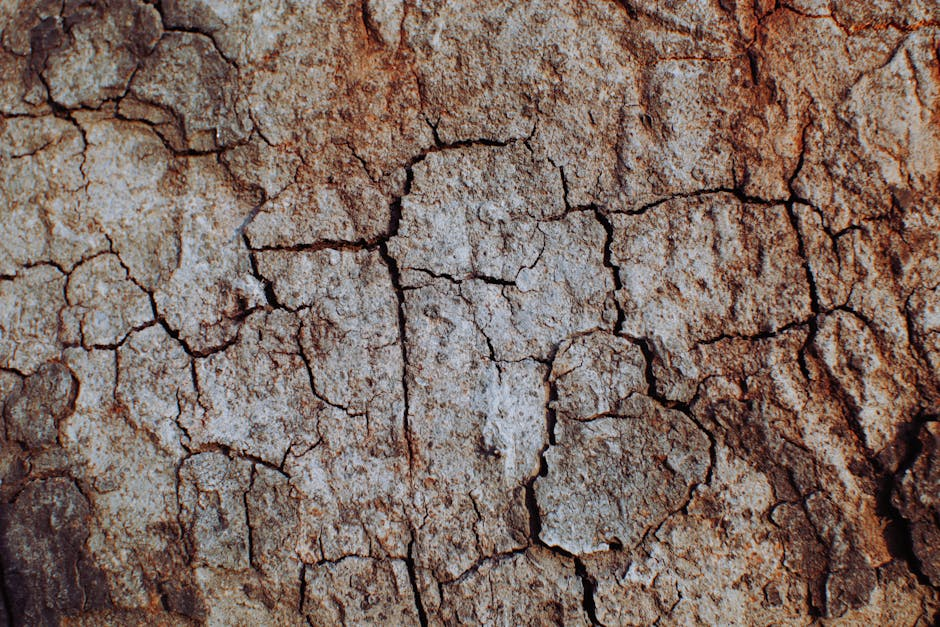细微裂纹: (367, 253, 457, 614), (30, 239, 248, 376), (1, 80, 275, 172), (587, 180, 858, 235)
